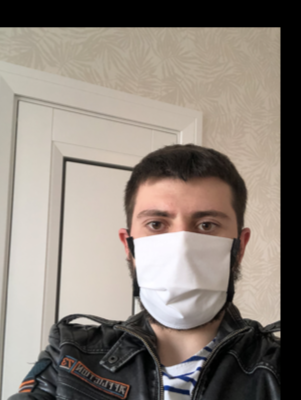with_mask: (126, 200, 238, 331)
